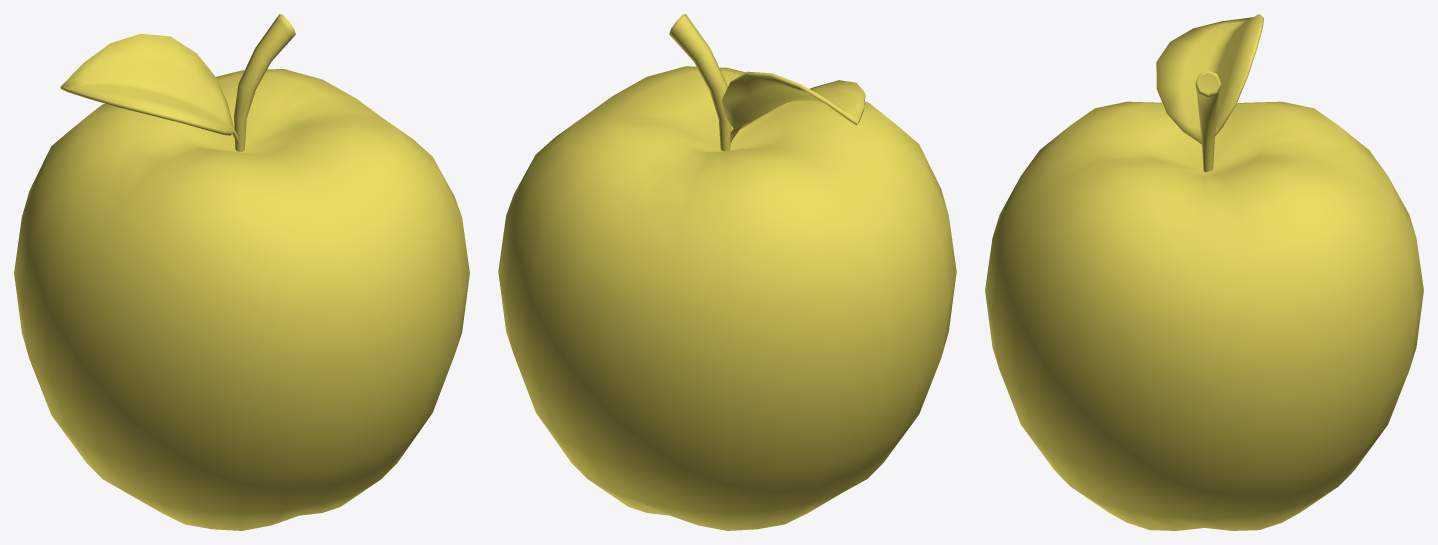
The model's file is MelaGiallaBad.fbx.
The picture shows the model from 3 angles, left to right: view 1: azimuth 30°, elevation 25°; view 2: azimuth 150°, elevation 25°; view 3: azimuth 270°, elevation 25°; orthographic projection. The views are drawn at different scales.
Parts seen in each view (by area): view 1: Mela.003; view 2: Mela.003; view 3: Mela.003.
Boxes of the visible parts, <box> form: Mela.003: <box>14,14,469,530</box>; Mela.003: <box>498,14,956,530</box>; Mela.003: <box>985,14,1423,530</box>.
Size of the model in its own units: 203 by 231 by 203.
